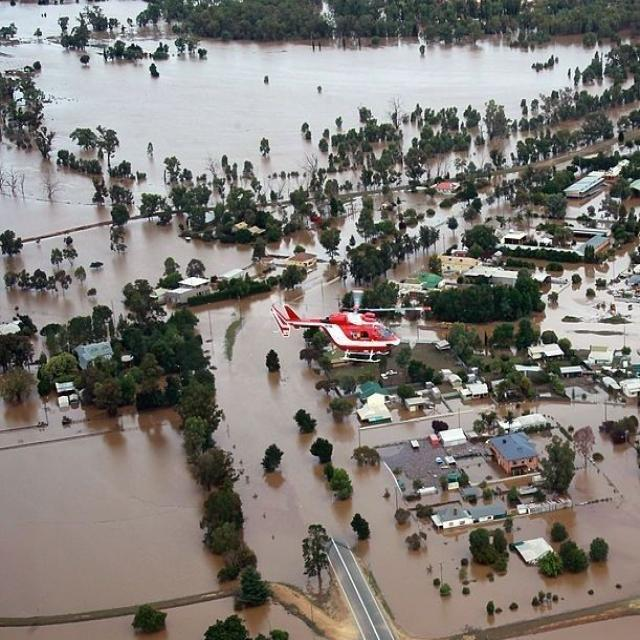flooded_areas: (3, 132, 633, 639)
